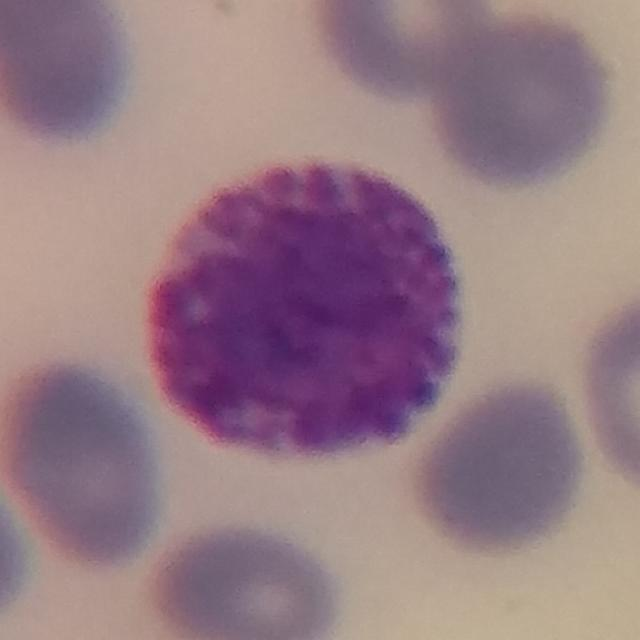Basophil: (138, 154, 474, 466)
RBC: (0, 351, 173, 573), (425, 6, 623, 194), (401, 372, 594, 560), (137, 515, 351, 640), (0, 0, 141, 150), (304, 0, 496, 101), (570, 285, 640, 501), (0, 473, 37, 634)
